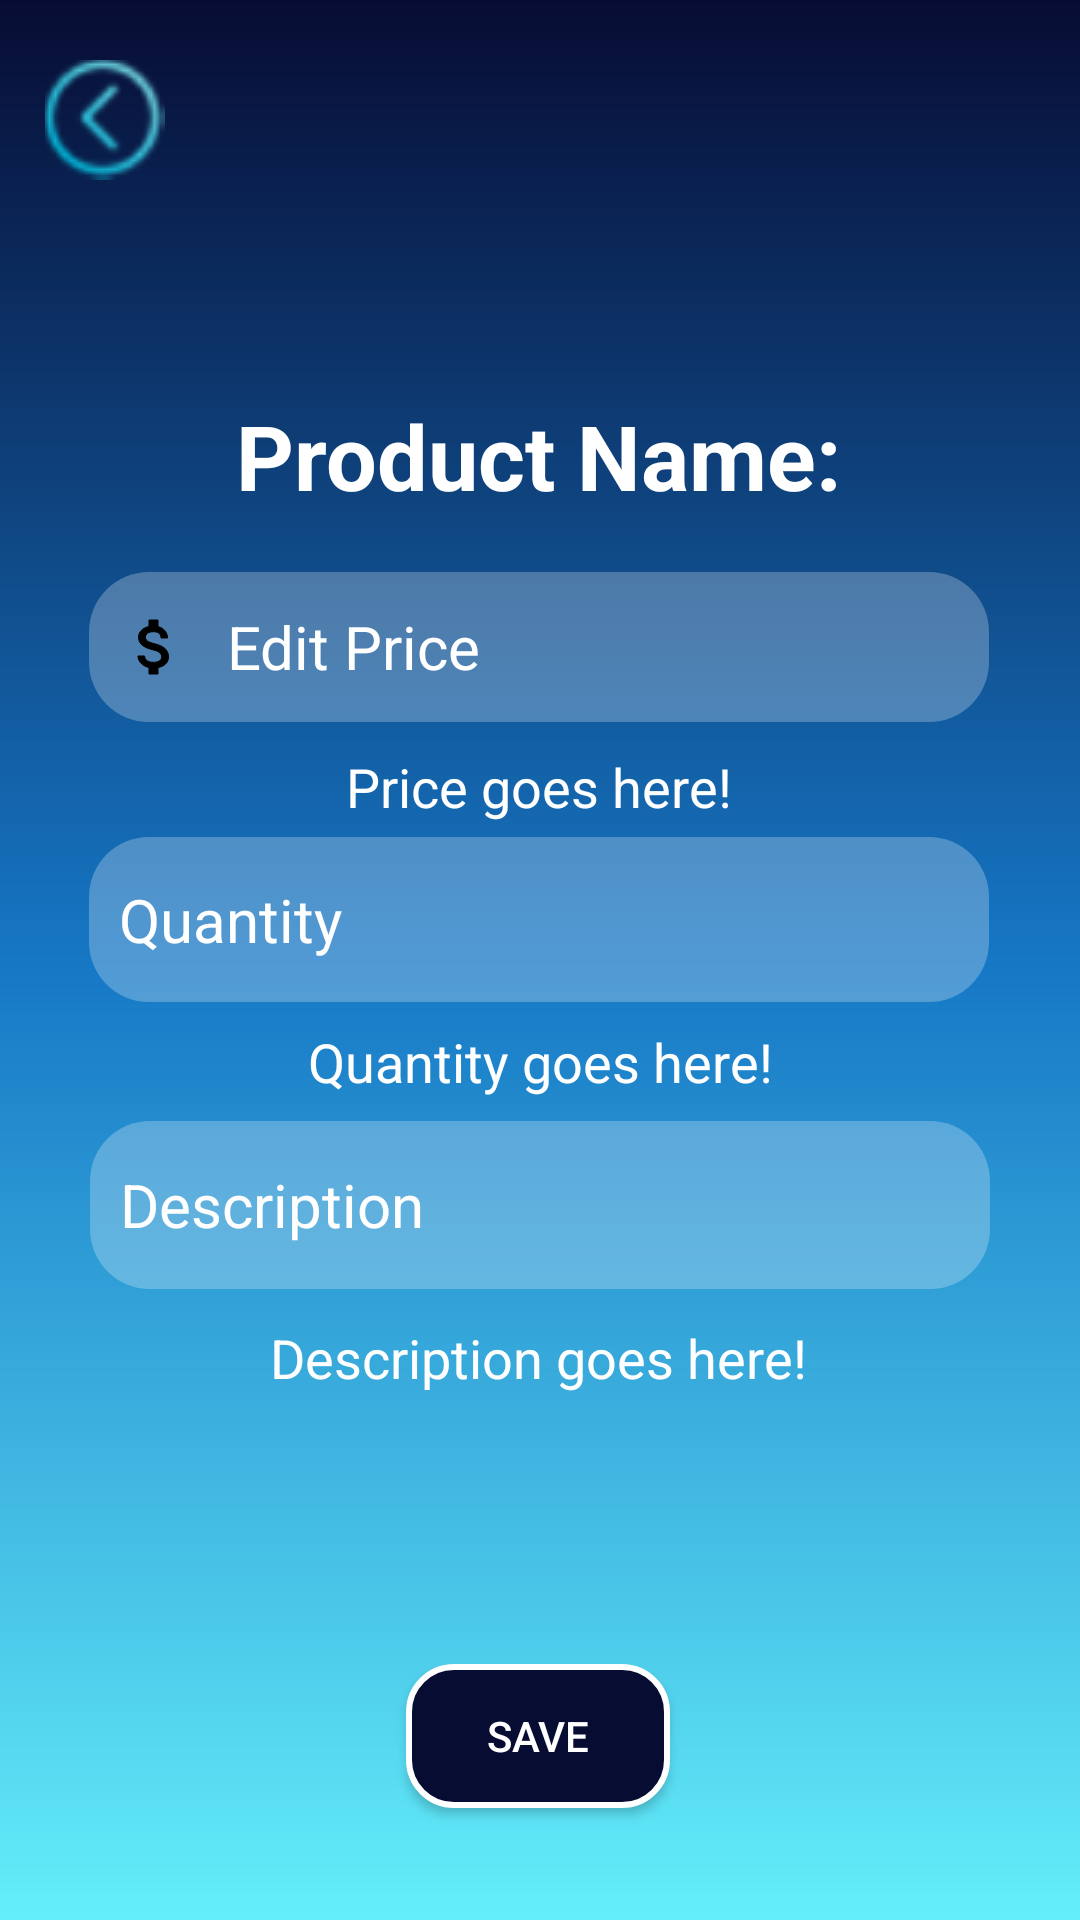

Point at icon controls on the screen. Image size 1080×1920, points as (x=x, y=y).
back: (x=105, y=90)
